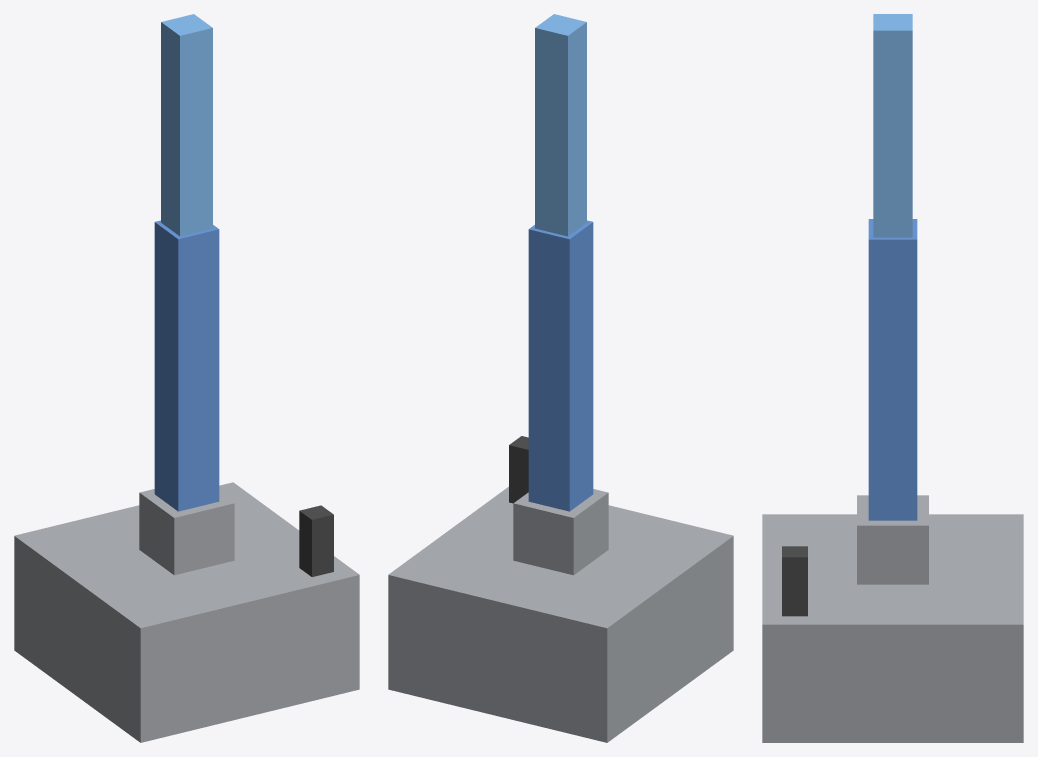
File: demo-arm.glb
The picture shows the model from 3 angles, left to right: view 1: azimuth 30°, elevation 25°; view 2: azimuth 150°, elevation 25°; view 3: azimuth 270°, elevation 25°; orthographic projection. The views are drawn at different scales.
Visible parts, largest first — view 1: Base, UpperArm, Forearm, Shoulder, StatusLamp; view 2: Base, UpperArm, Forearm, Shoulder, StatusLamp; view 3: Base, UpperArm, Forearm, Shoulder, StatusLamp.
Part boxes in pixels (box(x1,y1,x2,y2)): Base: box(14, 482, 359, 742); UpperArm: box(154, 220, 219, 511); Forearm: box(161, 14, 212, 236); Shoulder: box(139, 489, 234, 575); StatusLamp: box(299, 505, 333, 576); Base: box(388, 486, 733, 742); UpperArm: box(528, 220, 593, 511); Forearm: box(535, 14, 586, 236); Shoulder: box(513, 489, 608, 575); StatusLamp: box(509, 436, 528, 503); Base: box(762, 514, 1023, 742); UpperArm: box(868, 219, 917, 520); Forearm: box(873, 14, 912, 237); Shoulder: box(857, 495, 928, 584); StatusLamp: box(782, 546, 807, 616).
Bounding box in the file's own units: 0.8 × 2.25 × 0.8.
